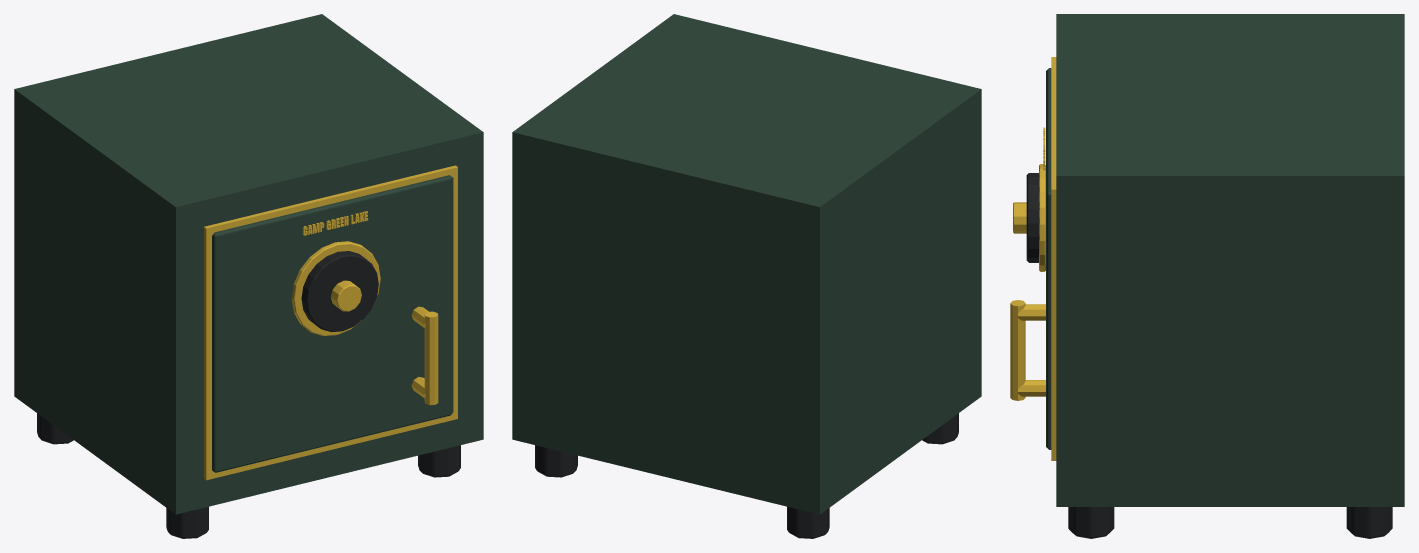
Rendered from FindSafe.glb.
3 views of the same model, side by side, from view 1: azimuth 30°, elevation 25°; view 2: azimuth 150°, elevation 25°; view 3: azimuth 270°, elevation 25° (orthographic). The views are drawn at different scales.
Visible parts, largest first — view 1: Safe_1.001; view 2: Safe_1.001; view 3: Safe_1.001.
Part boxes in pixels (x1,y1,x2,y2): Safe_1.001: [14, 14, 483, 538]; Safe_1.001: [512, 14, 981, 538]; Safe_1.001: [1010, 14, 1404, 538].
Size of the model in its own units: 1.1 by 1.17 by 1.13.
